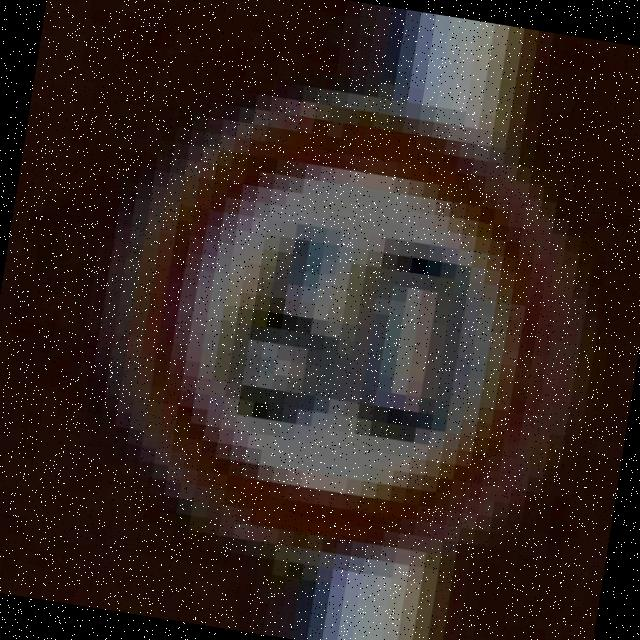Ograniczenie predkosci do 60: (106, 74, 583, 576)
